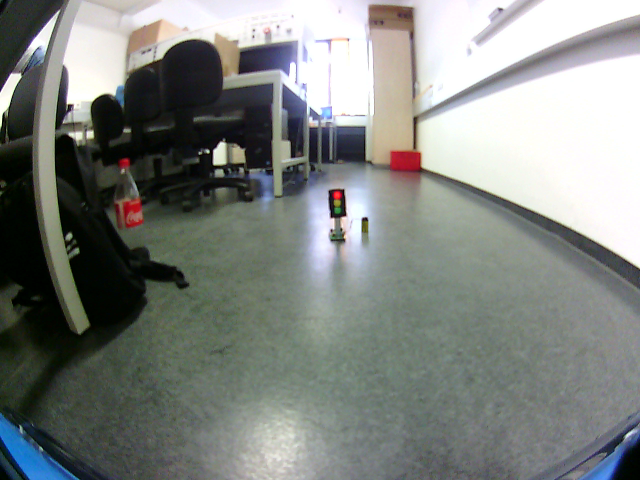red trafficlight: (329, 191, 347, 219)
